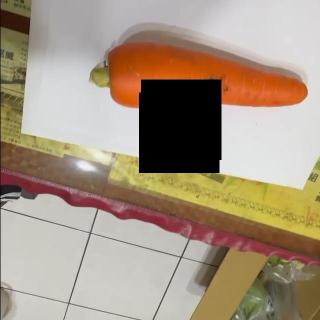carrot: (88, 40, 307, 111)
